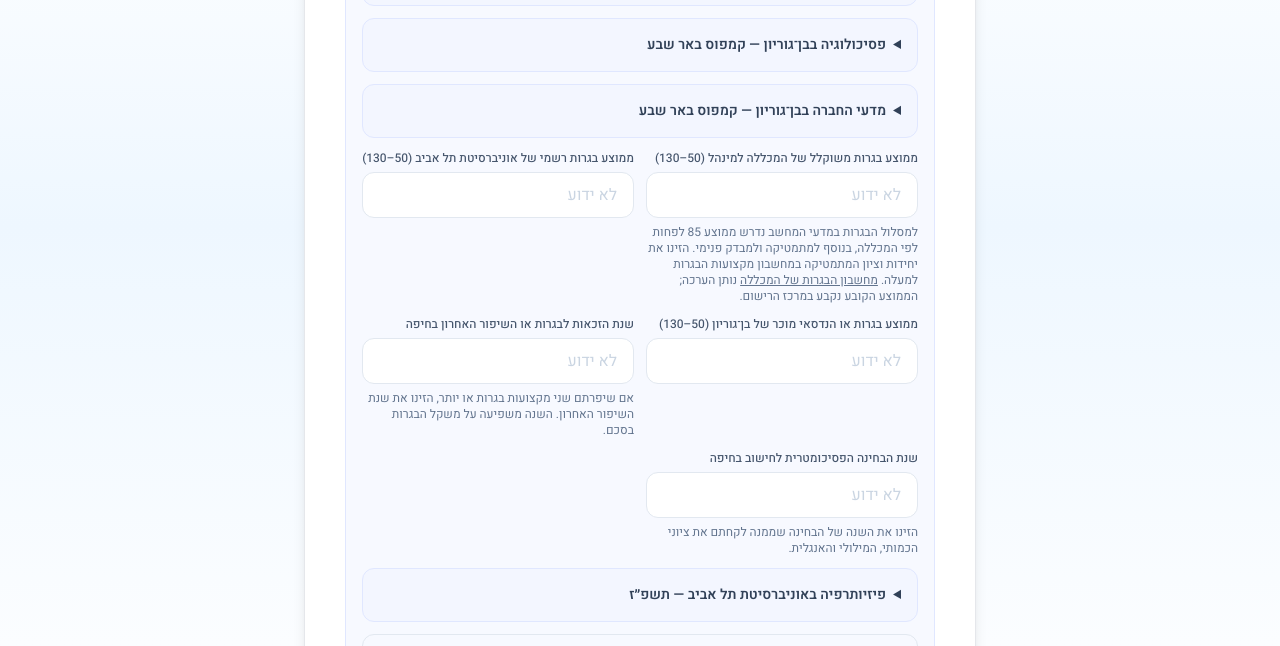
AcademicProfileForm › asks the student to correct an invalid Haifa year before saving a device draft
(page scrolled)
Type "2015.5" into the number field labelled "שנת הזכאות לבגרות או השיפור האחרון בחיפה" at coordinates (498, 360), box [362,338,634,384]
(page scrolled)
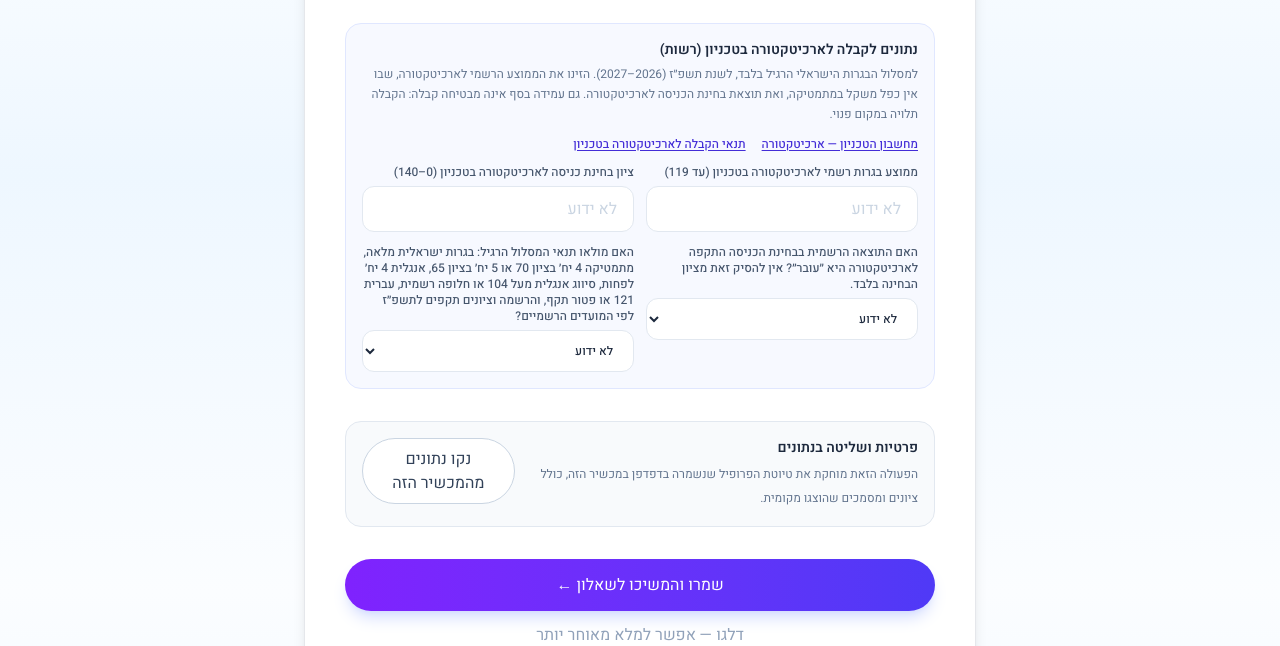
Click the button "שמרו והמשיכו לשאלון ←" at coordinates (640, 584), box [345,558,935,610]
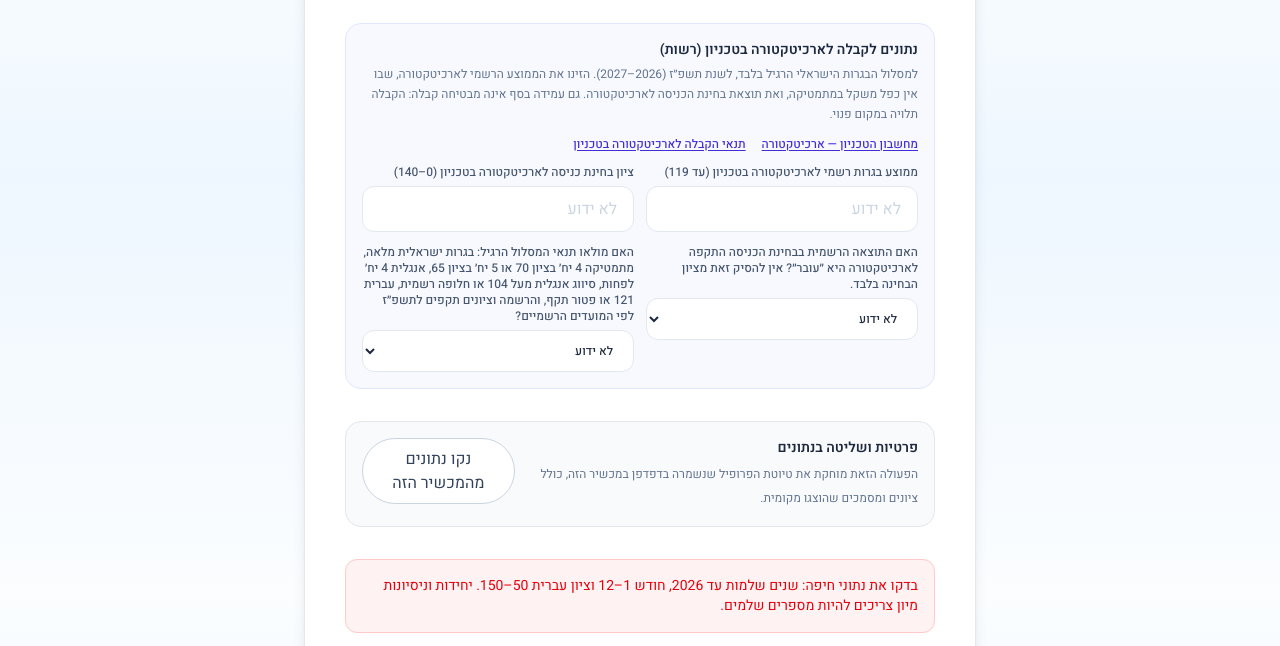
Expected: the text "בדקו את נתוני חיפה" is shown, [383,574,918,616]
